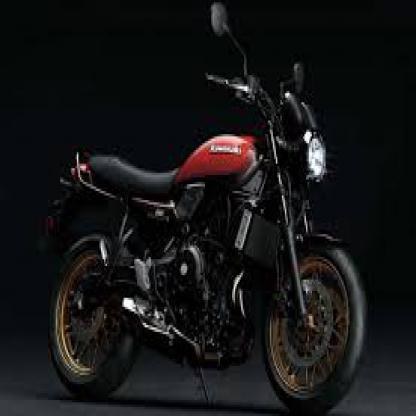Motorcycle: (36, 0, 377, 414)
